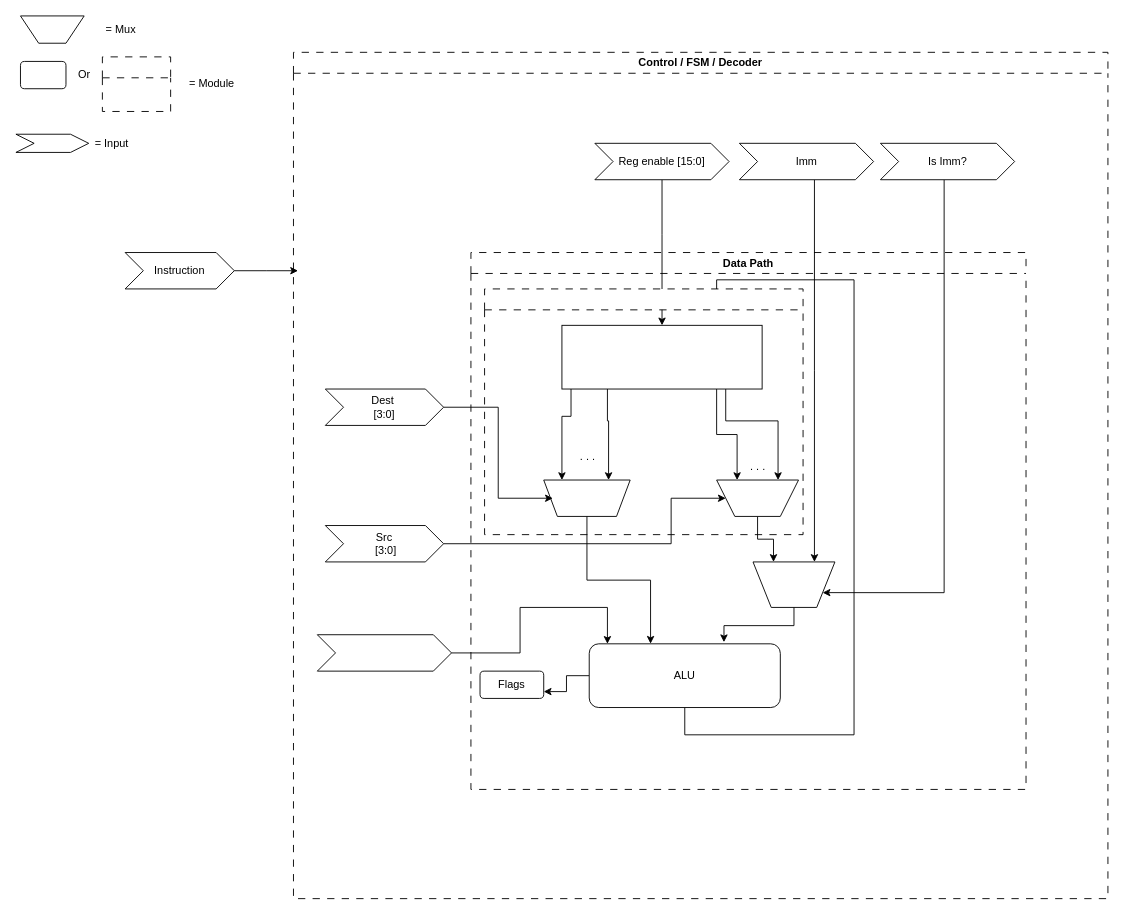
This 1124x915 diagram has some shape labels left out. The shapes that lost their labels are listed below. From the top down, each one's box as (x1, y1, x2, y2) in pixels, then its label:
(561, 324, 762, 389): Reg file
(484, 288, 803, 535): Regfile Module (Contains 16:1 Muxes)
(316, 634, 452, 671): Opcode
